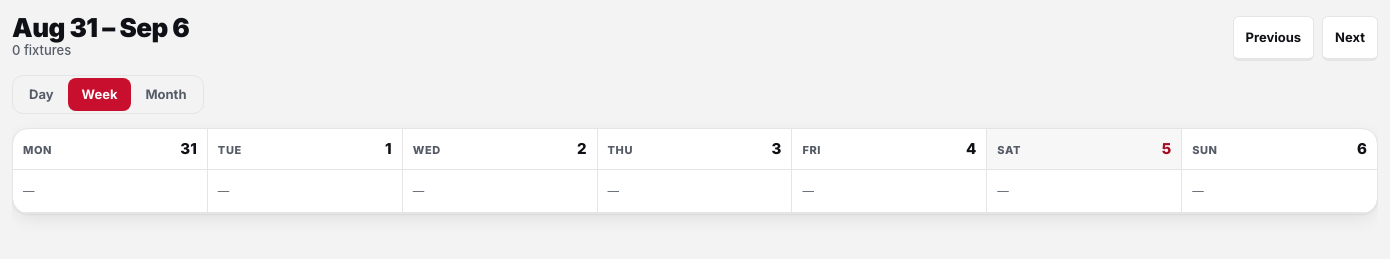
the screen › ⚠️ says so in a sentence when the day is empty, rather than drawing a blank grid
Click the tab "Day" at [41, 95], box [15,78,68,111]
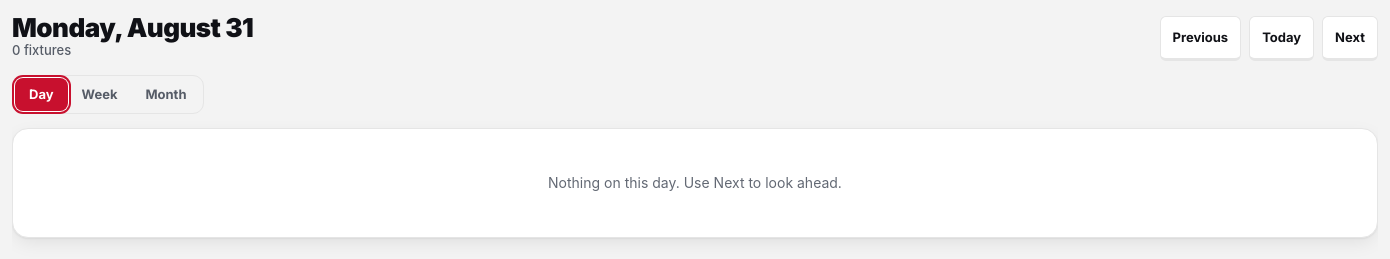
Result: the text "Nothing on this day. Use Next to look ahead." is shown at [548,174,842,191]
